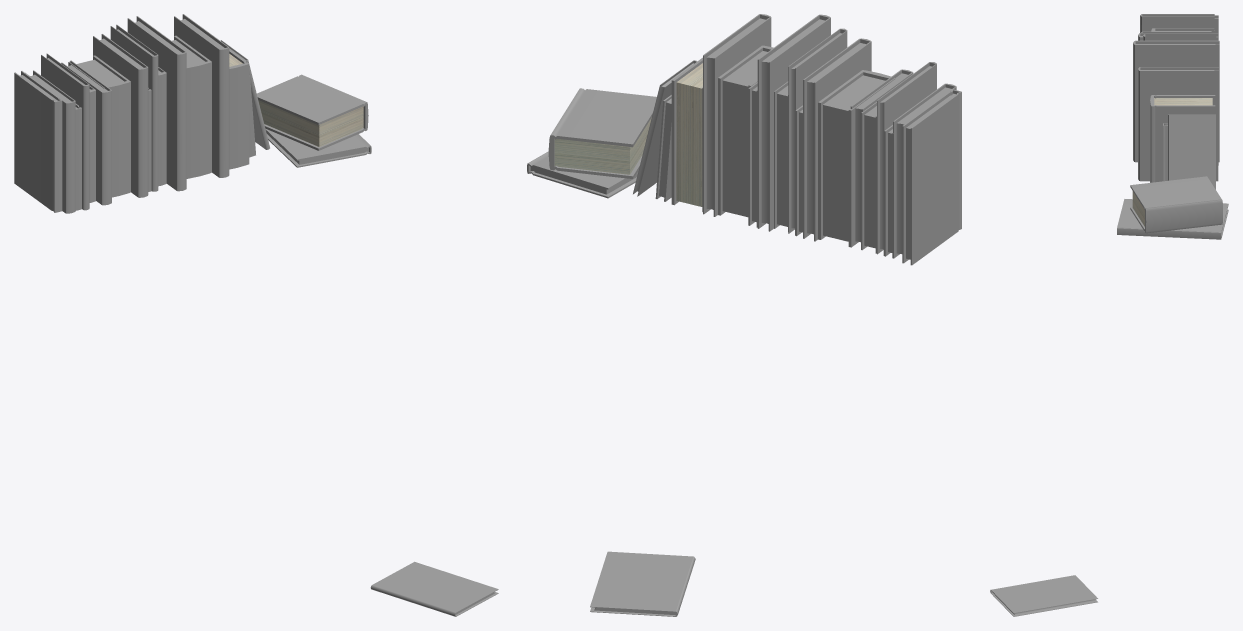
Rendered from BooksDoubled 1.fbx.
3 views of the same model, side by side, from view 1: azimuth 30°, elevation 25°; view 2: azimuth 150°, elevation 25°; view 3: azimuth 270°, elevation 25° (orthographic). The views are drawn at different scales.
Parts seen in each view (by area): view 1: Books_double_sided; view 2: Books_double_sided; view 3: Books_double_sided.
Boxes of the visible parts, box(x1,y1,x2,y2) form: Books_double_sided: box(14, 14, 498, 616); Books_double_sided: box(527, 14, 961, 616); Books_double_sided: box(990, 14, 1228, 616).
Size of the model in its own units: 15.38 by 22.07 by 10.12.
